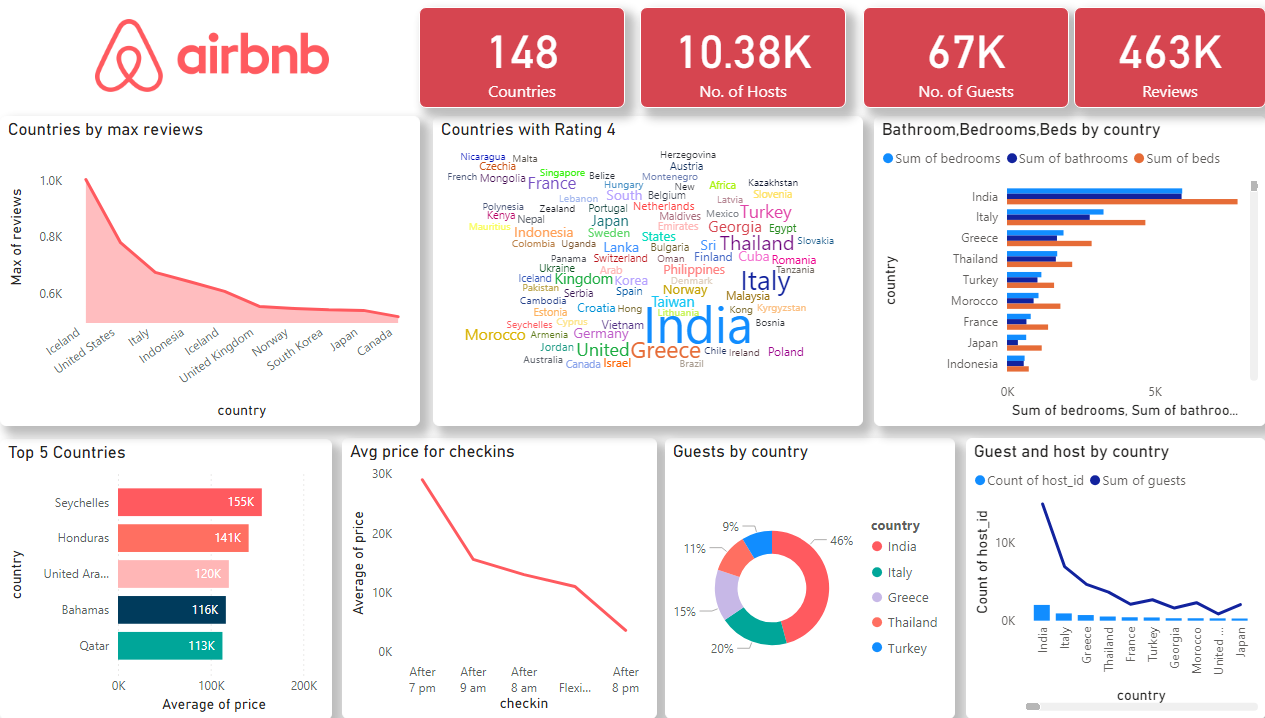

Layout of this report page (visuals, bound fields, positions):
{"tool":"powerbi","page":{"name":"Page 1","canvas":[1280,720],"ordinal":0},"visuals":[{"type":"clusteredBarChart","title":"Top 5 Countries","fields":{"Y":["Avg(airbnb_cleaned.price)"],"Category":["airbnb_cleaned.country"]},"box":[0,439.6,331.7,281.1],"z":0},{"type":"lineChart","title":"Avg price for checkins","fields":{"Y":["Avg(airbnb_cleaned.price)"],"Category":["airbnb_cleaned.checkin"]},"box":[342.4,438.7,314.2,281.1],"z":1000},{"type":"donutChart","title":"Guests by country","fields":{"Y":["CountNonNull(airbnb_cleaned.guests)"],"Category":["airbnb_cleaned.country"]},"box":[665.3,438.7,289.8,281.1],"z":2000},{"type":"areaChart","title":"Countries by max reviews","fields":{"Category":["airbnb_cleaned.country"],"Y":["Max(airbnb_cleaned.reviews)"]},"box":[0,116.9,419.7,309.8],"z":3000},{"type":"WordCloud1447959067750","title":"Countries with Rating 4","fields":{"Category":["airbnb_cleaned.country"],"Values":["CountNonNull(airbnb_cleaned.rating)"]},"box":[432.7,116.9,430.7,309.8],"z":4000},{"type":"clusteredBarChart","title":"Bathroom,Bedrooms,Beds by country","fields":{"Category":["airbnb_cleaned.country"],"Y":["Sum(airbnb_cleaned.bedrooms)","Sum(airbnb_cleaned.bathrooms)","Sum(airbnb_cleaned.beds)"]},"box":[874,117,392,310],"z":5000},{"type":"lineClusteredColumnComboChart","title":"Guest and host by country","fields":{"Category":["airbnb_cleaned.country"],"Y2":["Sum(airbnb_cleaned.guests)"],"Y":["Count(airbnb_cleaned.host_id)"]},"box":[965.8,438.7,300.5,281.1],"z":6000},{"type":"card","fields":{"Values":["Count(airbnb_cleaned.country)"]},"box":[419.2,7.8,206.2,101.2],"z":7001},{"type":"card","fields":{"Values":["Count(airbnb_cleaned.host_id)"]},"box":[640,7.8,206.2,101.2],"z":7002},{"type":"card","fields":{"Values":["Sum(airbnb_cleaned.guests)"]},"box":[862.7,7.8,206.2,101.2],"z":7003},{"type":"card","fields":{"Values":["Sum(airbnb_cleaned.reviews)"]},"box":[1073.8,7.8,192.6,101.2],"z":7004},{"type":"image","box":[10.7,14.6,401.7,83.6],"z":7005}]}

Visuals, with their boxes in screenshot pixels (x1, y1, x2, y2), scaled from the page's 1280x720 canvas onto the 1265x718 screenshot:
"Top 5 Countries" clusteredBarChart: locate(0, 438, 328, 717)
"Avg price for checkins" lineChart: locate(338, 437, 649, 717)
"Guests by country" donutChart: locate(658, 437, 944, 717)
"Countries by max reviews" areaChart: locate(0, 117, 415, 426)
"Countries with Rating 4" WordCloud1447959067750: locate(428, 117, 853, 426)
"Bathroom,Bedrooms,Beds by country" clusteredBarChart: locate(864, 117, 1251, 426)
"Guest and host by country" lineClusteredColumnComboChart: locate(954, 437, 1251, 717)
card - Count(airbnb_cleaned.country): locate(414, 8, 618, 109)
card - Count(airbnb_cleaned.host_id): locate(632, 8, 836, 109)
card - Sum(airbnb_cleaned.guests): locate(853, 8, 1056, 109)
card - Sum(airbnb_cleaned.reviews): locate(1061, 8, 1252, 109)
image: locate(11, 15, 408, 98)
